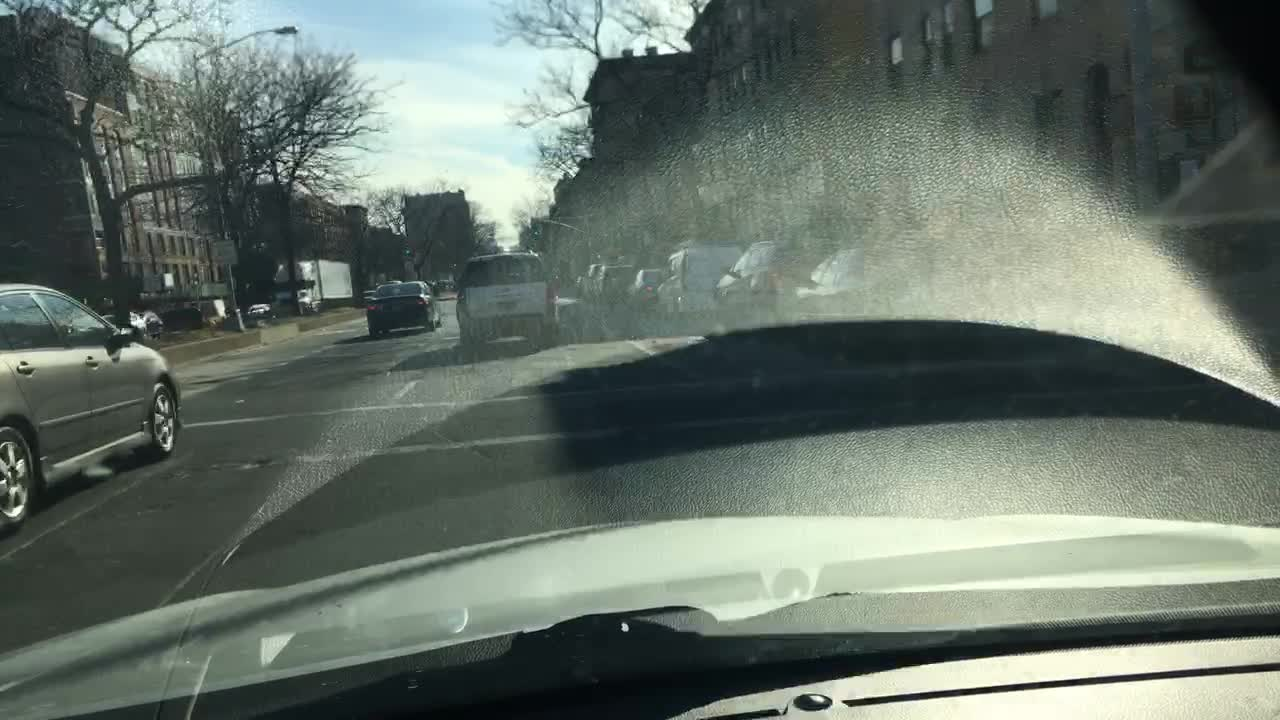car: (0, 279, 182, 538), (708, 237, 839, 325), (452, 251, 560, 347), (796, 235, 909, 324), (655, 244, 745, 326), (366, 278, 440, 339), (98, 309, 148, 340), (626, 267, 660, 309), (597, 265, 632, 301), (161, 306, 205, 331), (133, 307, 164, 340), (575, 262, 600, 298), (248, 300, 275, 319), (420, 276, 440, 297), (434, 277, 456, 294), (377, 277, 404, 289), (359, 288, 375, 304)
traffic sign: (212, 239, 239, 262)
truck: (275, 258, 355, 313)
